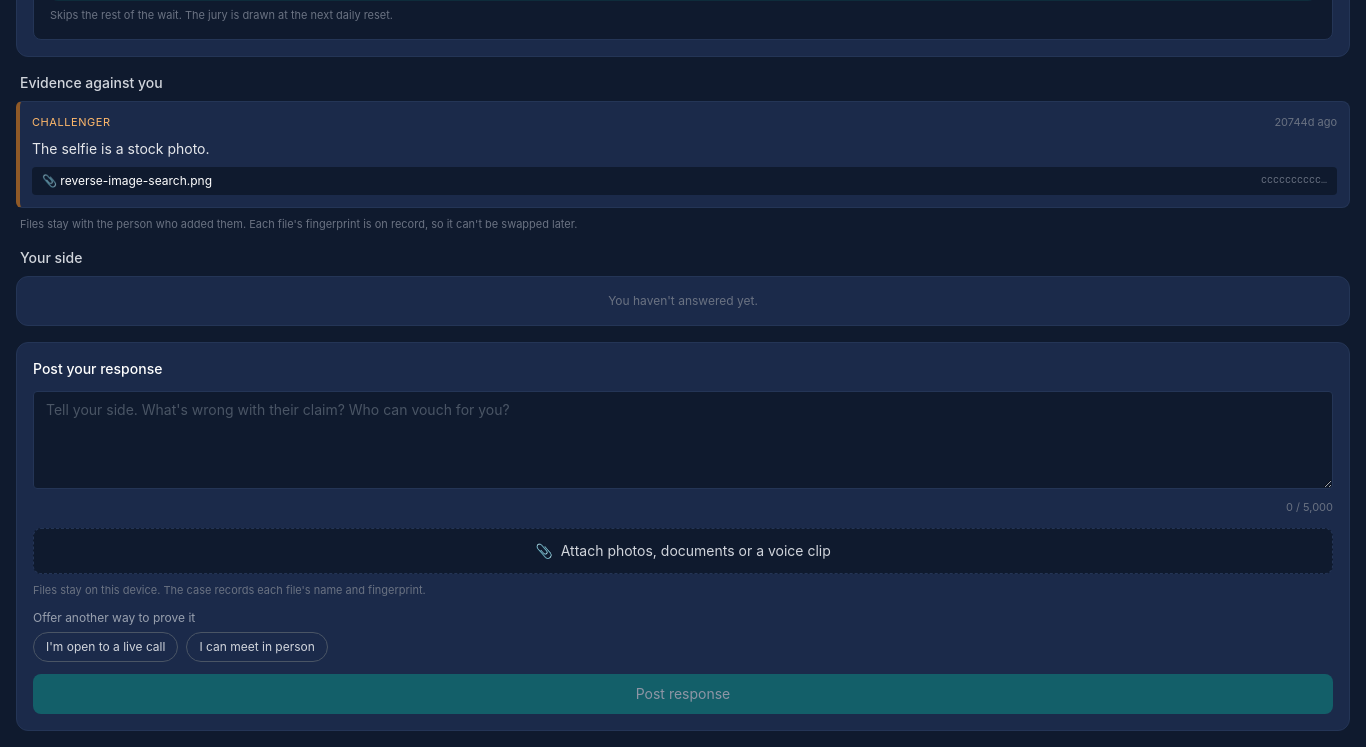
Test: CaseDetail (defendant) › shows the error and keeps the draft when the post is rejected
(page scrolled)
Expected: the heading "Post your response" is shown, [33,360,162,377]
Replace the text in the text box with placeholder "Tell your side" with "Too late?". click: (683, 440)
box: [33,391,1333,489]
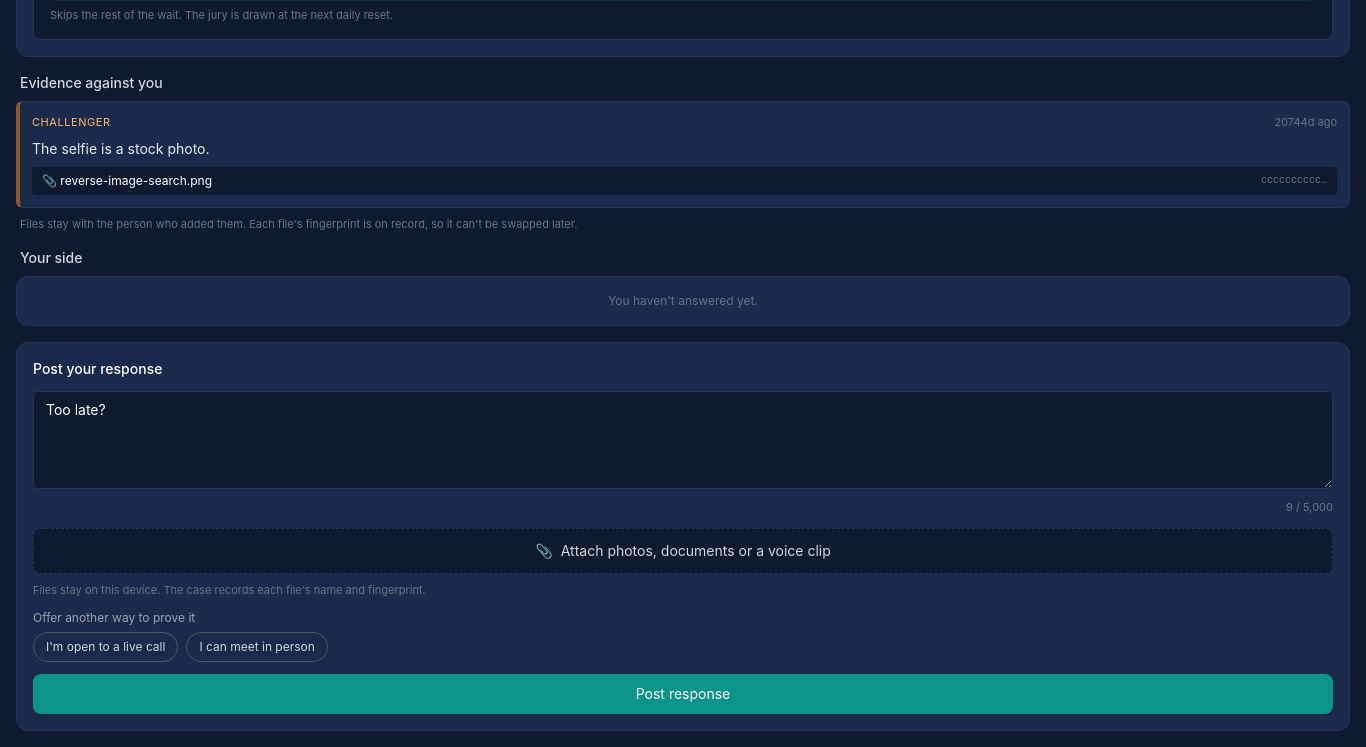
Click the button "Post response". click: (683, 694)
box: [33,674,1333,714]
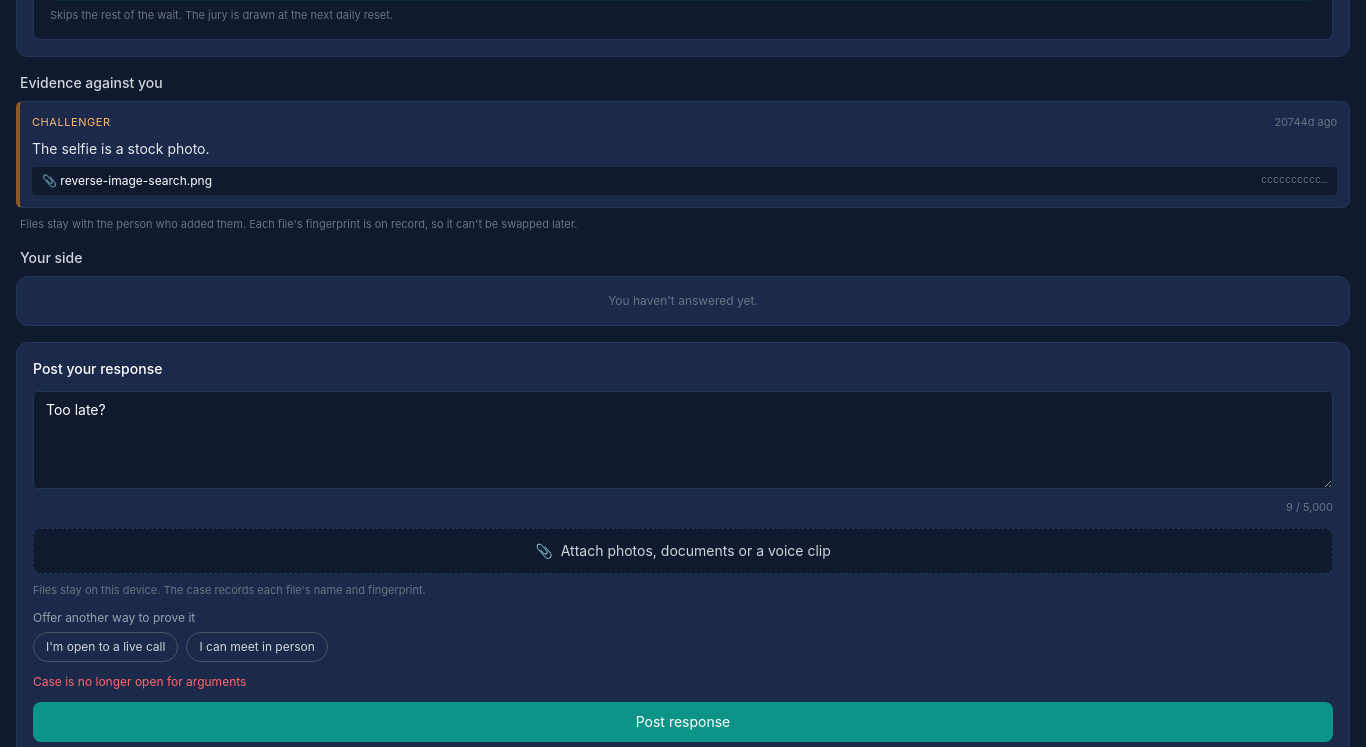
Result: the text "Case is no longer open for arguments" is shown at [33,674,246,689]
